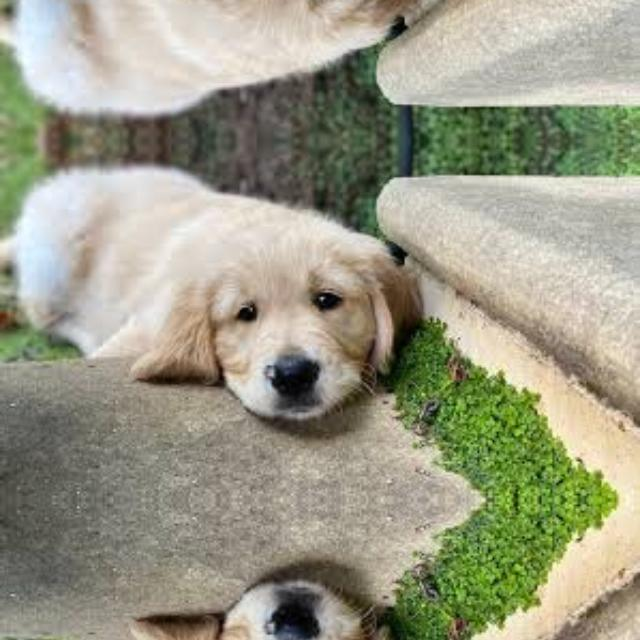dog: (129, 205, 445, 425), (129, 0, 445, 75), (129, 574, 445, 640)
